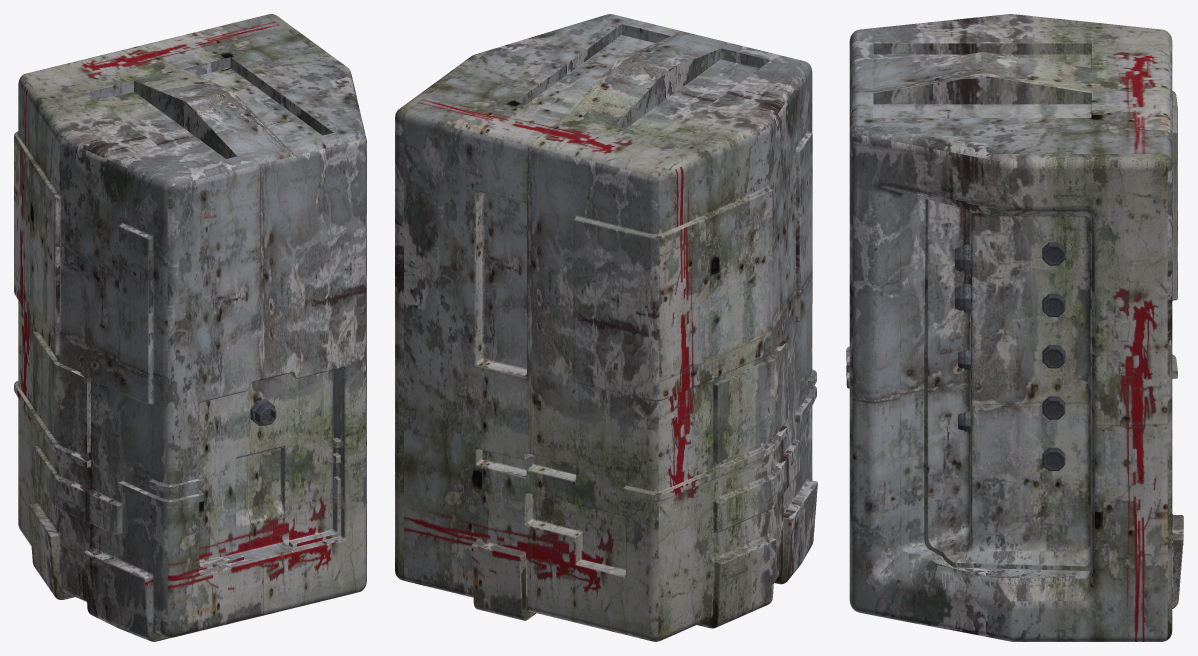
The model's file is BateriaNoFunca2 con textura.FBX.
The picture shows the model from 3 angles, left to right: view 1: azimuth 30°, elevation 25°; view 2: azimuth 150°, elevation 25°; view 3: azimuth 270°, elevation 25°; orthographic projection. The views are drawn at different scales.
Visible parts, largest first — view 1: pCube1, pCylinder13; view 2: pCube1; view 3: pCube1, pCylinder13.
Boxes of the visible parts, x1=… form: pCube1: x1=14, y1=14, x2=366, y2=641; pCylinder13: x1=250, y1=399, x2=276, y2=425; pCube1: x1=395, y1=14, x2=817, y2=641; pCube1: x1=846, y1=14, x2=1183, y2=641; pCylinder13: x1=955, y1=242, x2=1065, y2=470.
Size of the model in its own units: 3.83 by 5.89 by 3.53.
Materials: 2 (2 with a texture image).
